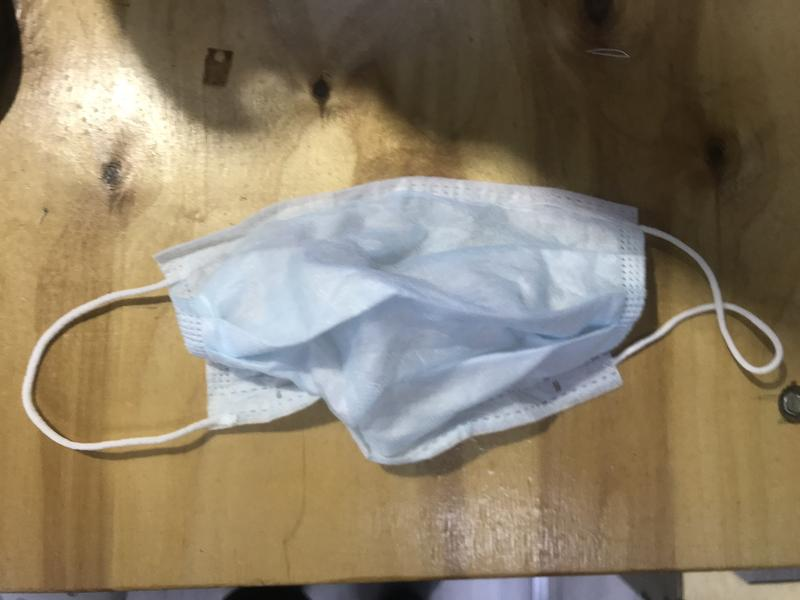medical_mask: (20, 177, 783, 466)
